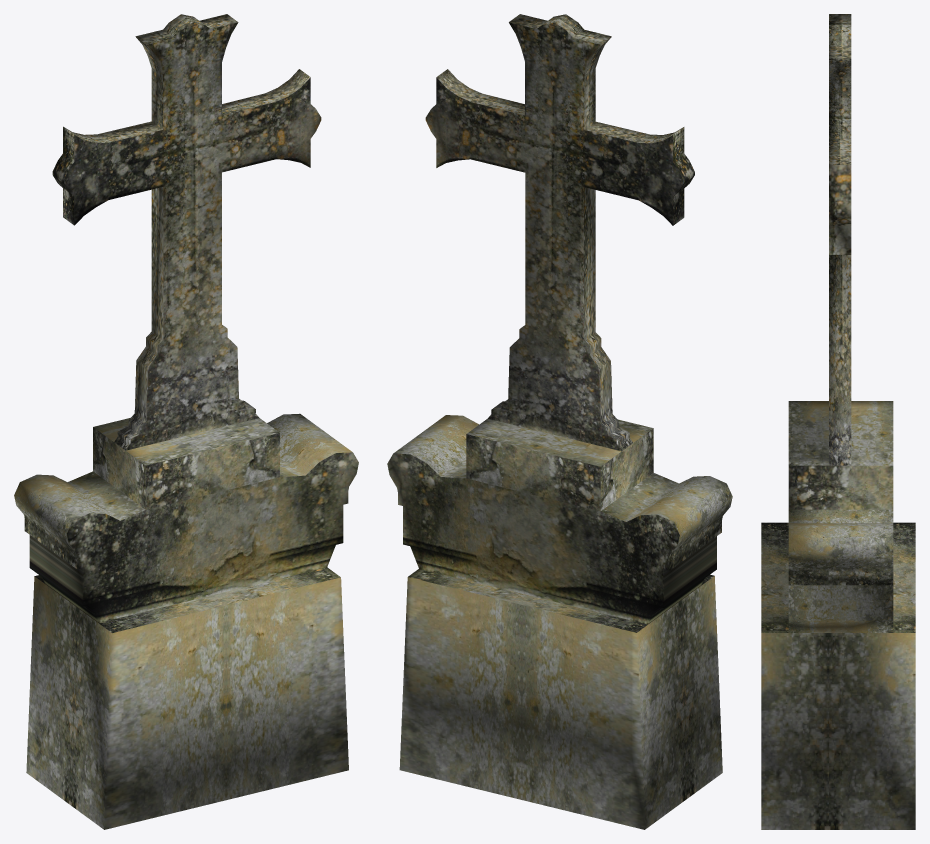
File: gravestoneJ.fbx
The picture shows the model from 3 angles, left to right: view 1: azimuth 30°, elevation 25°; view 2: azimuth 150°, elevation 25°; view 3: azimuth 270°, elevation 25°; orthographic projection.
Parts seen in each view (by area): view 1: U3DMesh; view 2: U3DMesh; view 3: U3DMesh.
Boxes of the visible parts, x1,y1,x2,y2 form: U3DMesh: [14, 14, 358, 829]; U3DMesh: [387, 14, 732, 829]; U3DMesh: [761, 14, 915, 829].
Bounding box in the file's own units: 31.18 × 76.74 × 14.4.
